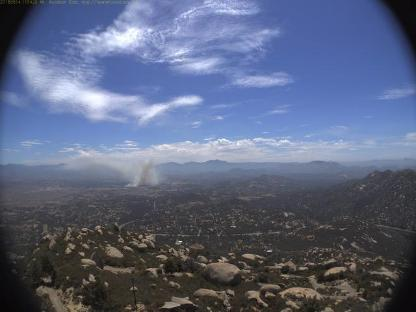smoke: (62, 147, 162, 187)
